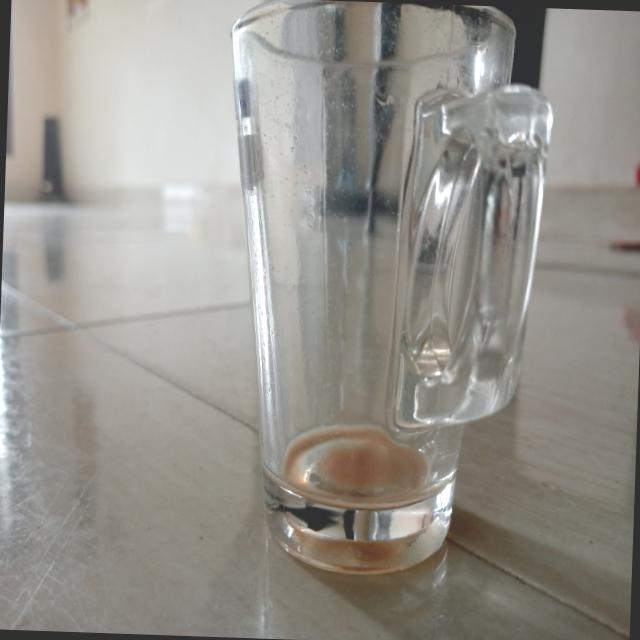glass-VX4N: (214, 0, 556, 585)
